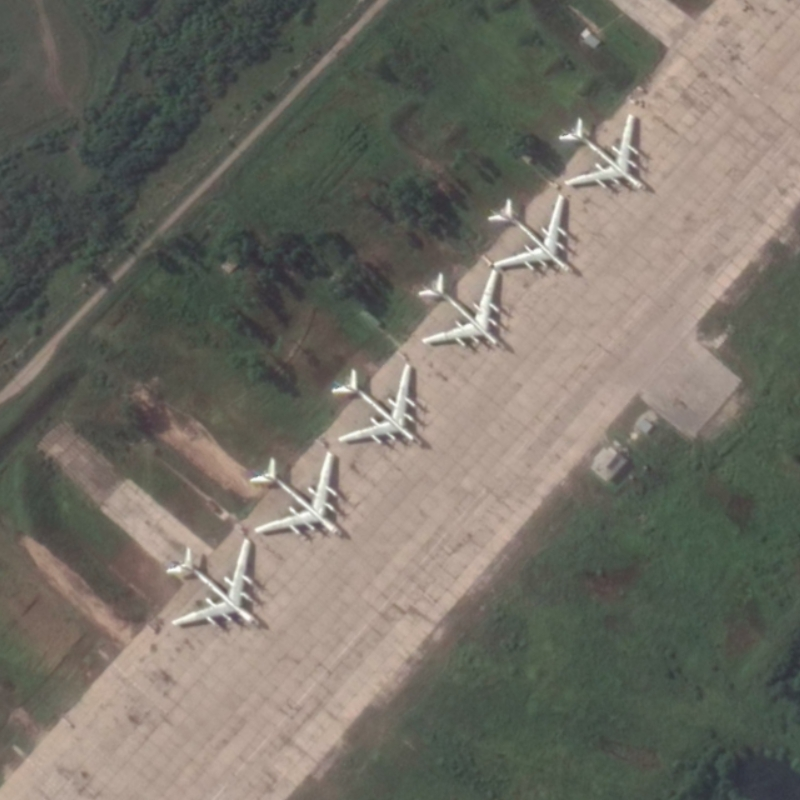A17: (164, 536, 262, 629), (248, 449, 347, 540), (330, 361, 422, 447), (486, 192, 576, 277), (556, 112, 650, 193), (417, 267, 505, 352)
